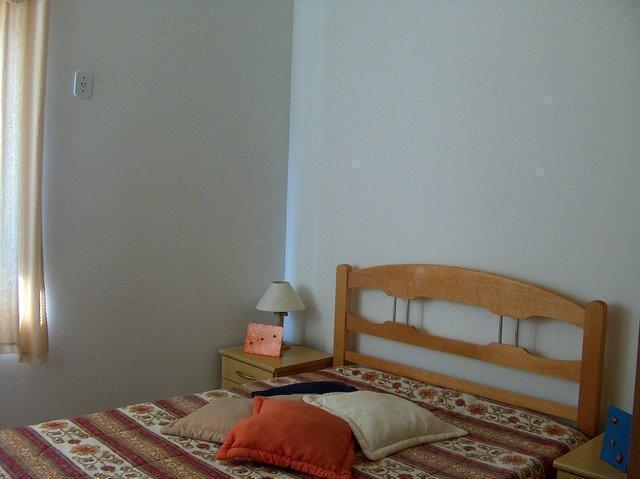Cama: (11, 266, 614, 476)
